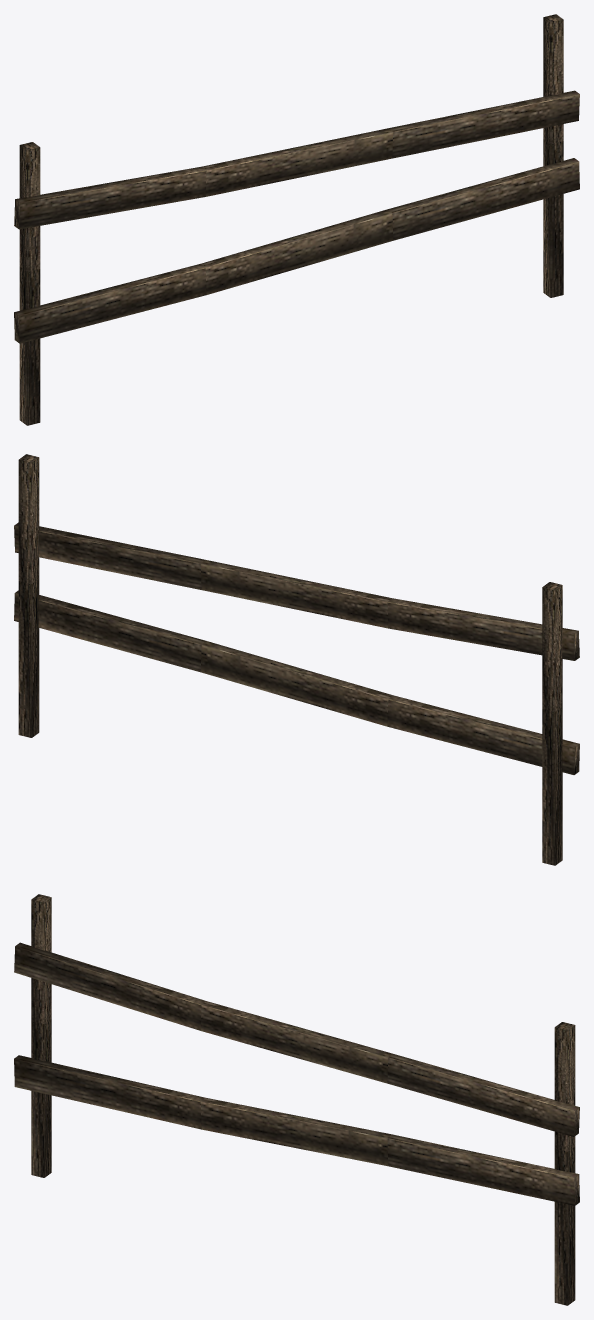
Rendered from Fence 2.fbx.
The picture shows the model from 3 angles, top to bottom: view 1: azimuth 30°, elevation 25°; view 2: azimuth 150°, elevation 25°; view 3: azimuth 330°, elevation 25°; orthographic projection.
Visible parts, largest first — view 1: Fence 2; view 2: Fence 2; view 3: Fence 2.
Part boxes in pixels (x1=…): Fence 2: x1=14, y1=14, x2=579, y2=425; Fence 2: x1=14, y1=454, x2=579, y2=865; Fence 2: x1=14, y1=894, x2=579, y2=1305.
Size of the model in its own units: 3 by 1.41 by 0.1107.
